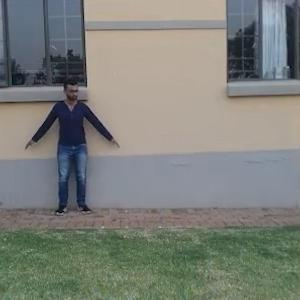land: (24, 80, 119, 225)
